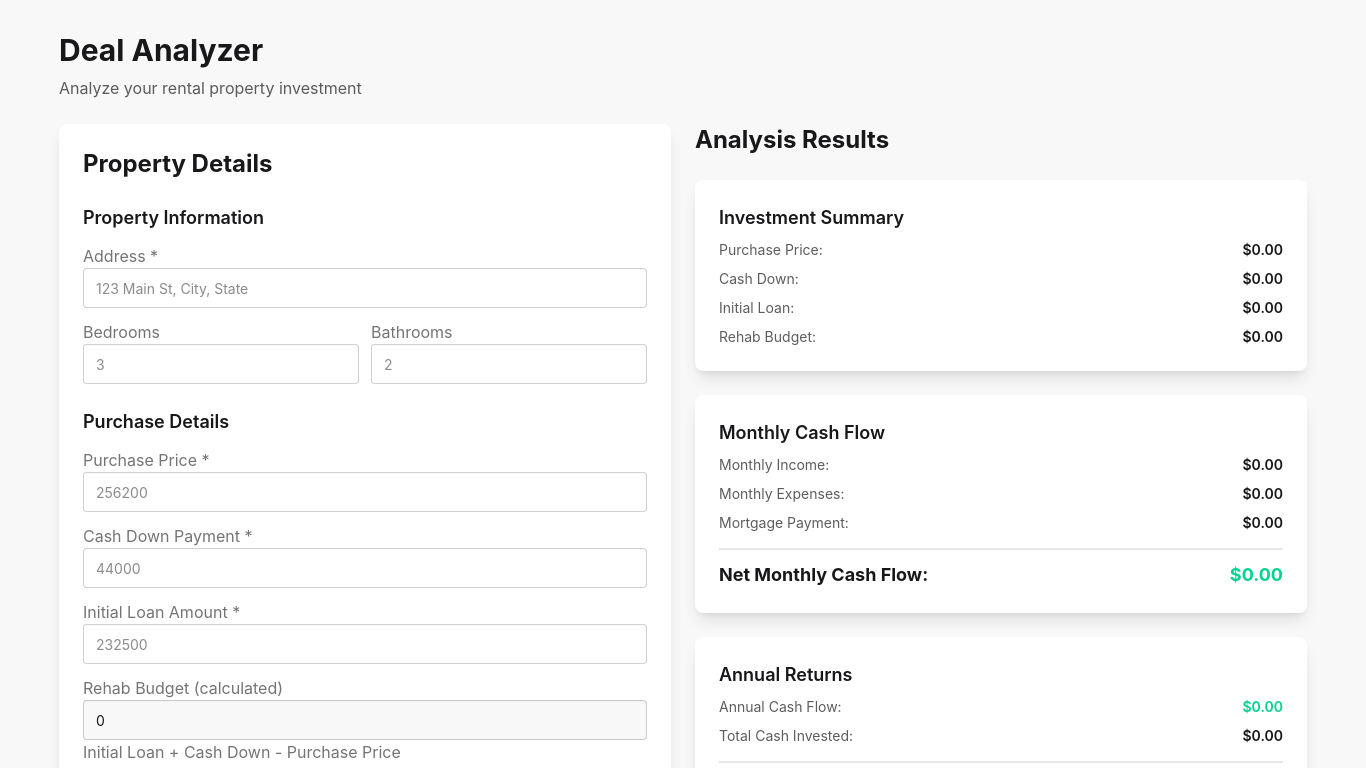
Test: DealAnalyzer - Task 6: Calculations Logic › should calculate rehabBudget correctly
The image size is (1366, 768).
Note: Fill in purchase details
Type "250000" into the number field labelled "Purchase Price *" at [365, 492], box [83,472,647,512]
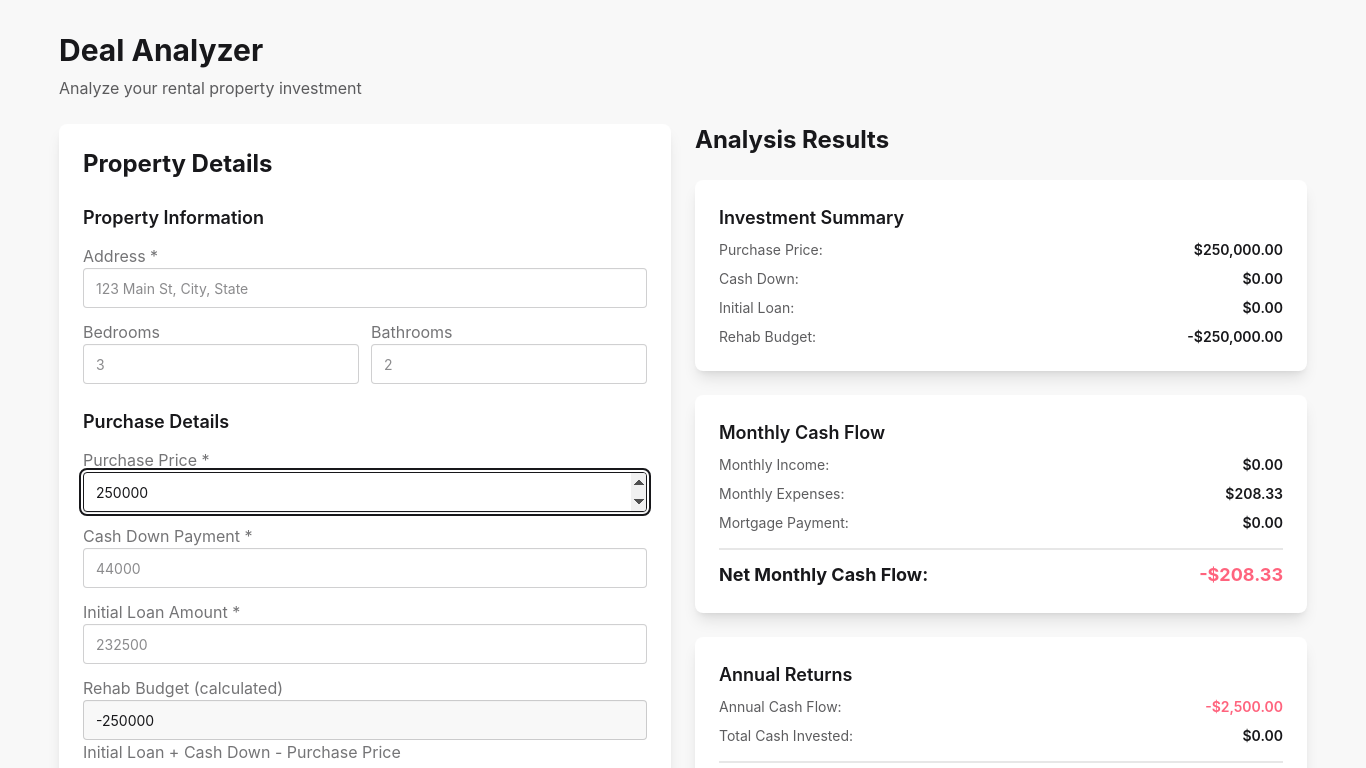
Type "50000" into the number field labelled "Cash Down Payment *" at [365, 568], box [83,548,647,588]
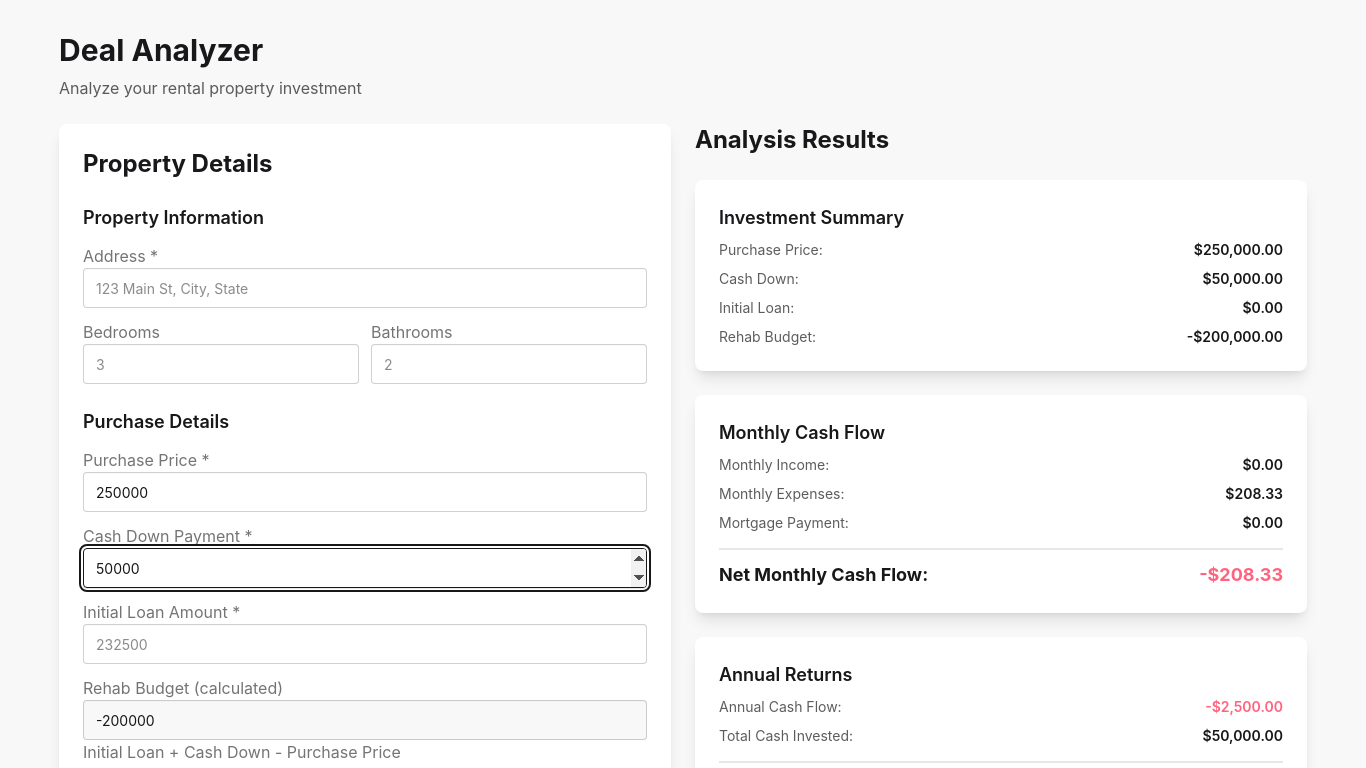
Type "220000" into the number field labelled "Initial Loan Amount *" at [365, 644], box [83,624,647,664]
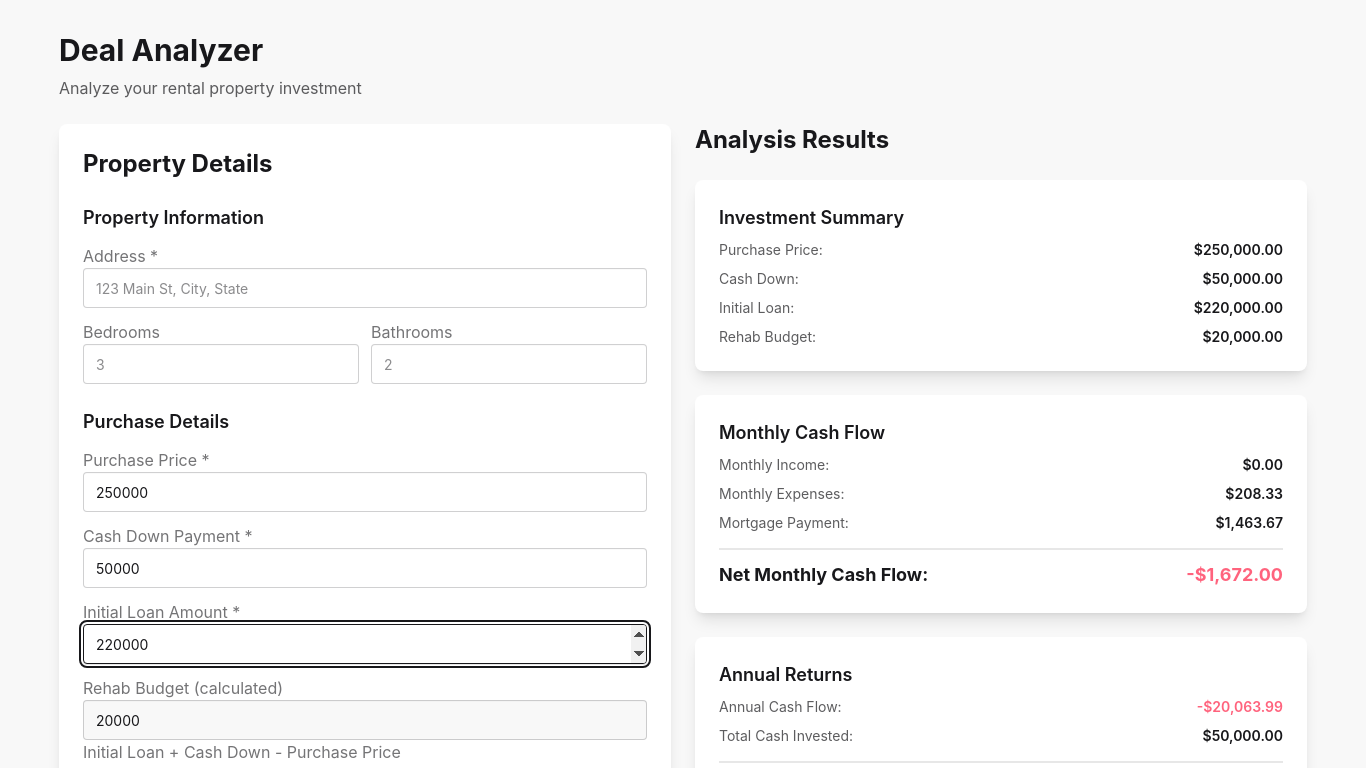
Now the field labelled "Rehab Budget (calculated)" holds "20000", box [83,700,647,740]
